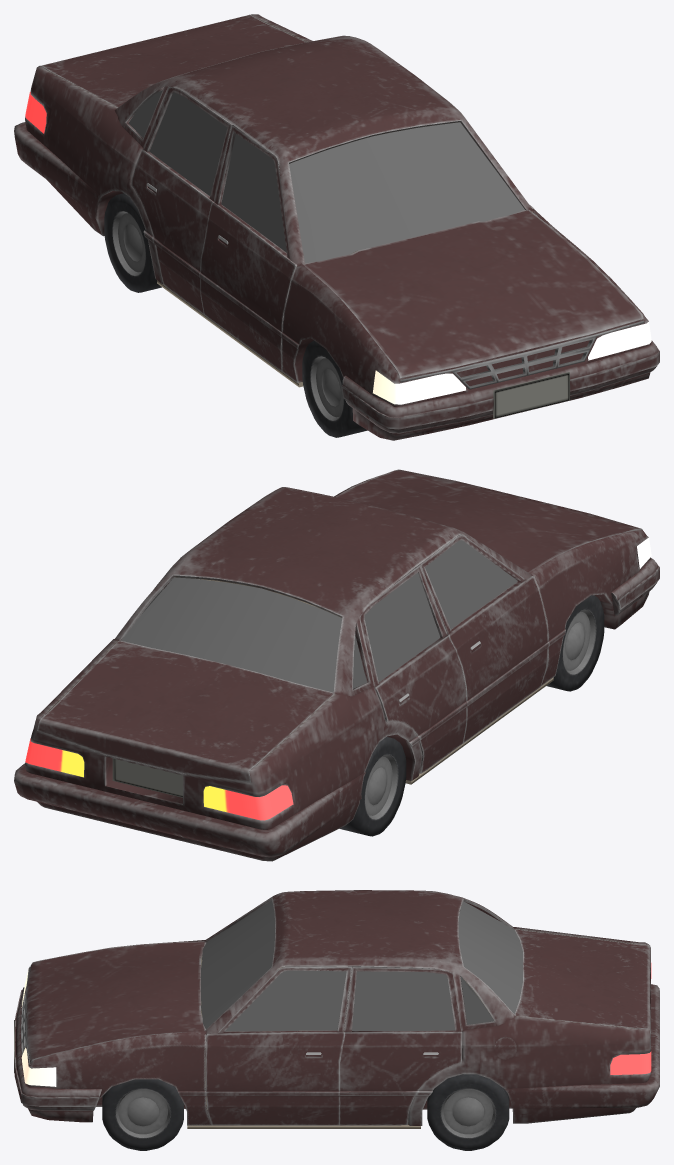
File: CarForGame.fbx
3 renders of one model, top to bottom at view 1: azimuth 30°, elevation 25°; view 2: azimuth 150°, elevation 25°; view 3: azimuth 270°, elevation 25°, orthographic. The views are drawn at different scales.
Visible parts, largest first — view 1: Cube.005, B_car.009, F_car.002, forntDoor.009, B_car.002, forntDoor.012, Cylinder.012, Cylinder; view 2: Cube.005, B_car.009, B_car.002, F_car.002, forntDoor.009, forntDoor.012, Cylinder.012, Cylinder; view 3: Cube.005, B_car.009, F_car.002, forntDoor.009, B_car.002, forntDoor.012, B_car.001, Cylinder.002, Cylinder.001.
Part boxes in pixels (x1=…): Cube.005: x1=14, y1=14, x2=659, y2=440; B_car.009: x1=25, y1=90, x2=651, y2=404; F_car.002: x1=304, y1=210, x2=643, y2=378; forntDoor.009: x1=199, y1=113, x2=534, y2=371; B_car.002: x1=41, y1=14, x2=306, y2=107; forntDoor.012: x1=131, y1=86, x2=232, y2=314; Cylinder.012: x1=104, y1=193, x2=161, y2=292; Cylinder: x1=302, y1=340, x2=367, y2=437; Cube.005: x1=14, y1=476, x2=659, y2=861; B_car.009: x1=25, y1=537, x2=651, y2=820; B_car.002: x1=37, y1=641, x2=334, y2=782; F_car.002: x1=336, y1=469, x2=642, y2=572; forntDoor.009: x1=419, y1=535, x2=549, y2=743; forntDoor.012: x1=168, y1=565, x2=467, y2=773; Cylinder.012: x1=339, y1=737, x2=406, y2=836; Cylinder: x1=546, y1=595, x2=604, y2=691; Cube.005: x1=14, y1=890, x2=659, y2=1128; B_car.009: x1=21, y1=900, x2=651, y2=1086; F_car.002: x1=26, y1=941, x2=206, y2=1062; forntDoor.009: x1=205, y1=966, x2=351, y2=1125; B_car.002: x1=514, y1=929, x2=650, y2=1037; forntDoor.012: x1=340, y1=966, x2=462, y2=1125; B_car.001: x1=225, y1=970, x2=346, y2=1031; Cylinder.002: x1=427, y1=1074, x2=509, y2=1150; Cylinder.001: x1=102, y1=1079, x2=183, y2=1150.
Bounding box in the file's own units: 235 × 178 × 578.
